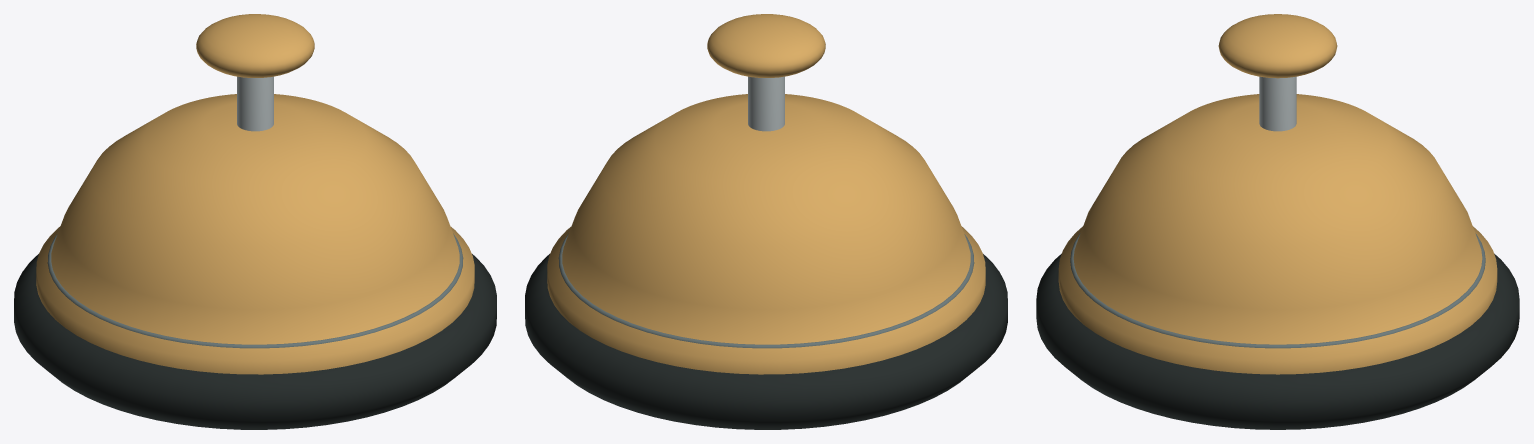
File: ServiceBell.fbx
3 renders of one model, left to right at view 1: azimuth 30°, elevation 25°; view 2: azimuth 150°, elevation 25°; view 3: azimuth 270°, elevation 25°, orthographic.
Visible parts, largest first — view 1: ServiceBell_Body, BellButton; view 2: ServiceBell_Body, BellButton; view 3: ServiceBell_Body, BellButton.
Part boxes in pixels (x1,y1,x2,y2): ServiceBell_Body: (14, 76, 496, 429); BellButton: (196, 14, 314, 77); ServiceBell_Body: (525, 76, 1007, 429); BellButton: (707, 14, 825, 77); ServiceBell_Body: (1036, 76, 1519, 429); BellButton: (1218, 14, 1337, 78).
Bounding box in the file's own units: 0.13 × 0.092 × 0.13.
